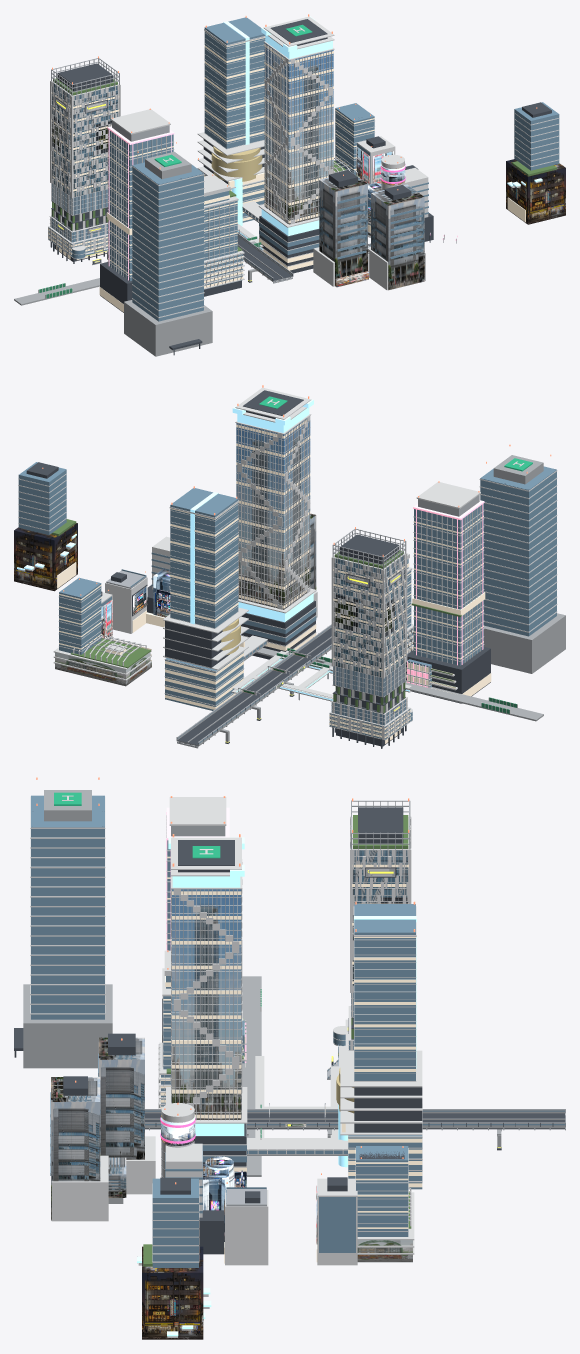
The model's file is shibuya_stream.glb.
3 renders of one model, top to bottom at view 1: azimuth 30°, elevation 25°; view 2: azimuth 150°, elevation 25°; view 3: azimuth 270°, elevation 25°, orthographic. The views are drawn at different scales.
Visible parts, largest first — view 1: ShibuyaScrambleSquare_Tower, ShibuyaCerulean_Tower, ShibuyaMarkCity_Complex, ShibuyaHikarie_Tower, ShibuyaStream_HighRise, ShibuyaSakuraStage_Tower, ShibuyaParco_Complex, ShibuyaFukuras_Tower, ShibuyaMiyashitaPark_Complex, ShibuyaStream_MidVoid, ShibuyaQfront109_Complex, ShibuyaStream_Podium (+4 smaller); view 2: ShibuyaScrambleSquare_Tower, ShibuyaHikarie_Tower, ShibuyaCerulean_Tower, ShibuyaSakuraStage_Tower, ShibuyaStream_HighRise, ShibuyaParco_Complex, ShibuyaMiyashitaPark_Complex, ShutokoRoute3_Viaduct, ShibuyaEastPedestrianDeck, ShibuyaStream_Podium, ShibuyaStream_MidVoid, ShibuyaMagnet_Tower (+4 smaller); view 3: ShibuyaScrambleSquare_Tower, ShibuyaCerulean_Tower, ShibuyaHikarie_Tower, ShibuyaMarkCity_Complex, ShibuyaParco_Complex, ShibuyaMiyashitaPark_Complex, ShibuyaStream_HighRise, ShibuyaQfront109_Complex, ShutokoRoute3_Viaduct, ShibuyaEastPedestrianDeck, ShibuyaToeiBic_Tower, ShibuyaMagnet_Tower (+2 smaller).
Boxes of the visible parts, x1=… form: ShibuyaScrambleSquare_Tower: x1=258, y1=14, x2=334, y2=273; ShibuyaCerulean_Tower: x1=124, y1=142, x2=212, y2=356; ShibuyaMarkCity_Complex: x1=313, y1=170, x2=425, y2=290; ShibuyaHikarie_Tower: x1=197, y1=16, x2=265, y2=225; ShibuyaStream_HighRise: x1=50, y1=56, x2=120, y2=198; ShibuyaSakuraStage_Tower: x1=99, y1=108, x2=174, y2=312; ShibuyaParco_Complex: x1=506, y1=102, x2=565, y2=224; ShibuyaFukuras_Tower: x1=204, y1=174, x2=244, y2=296; ShibuyaMiyashitaPark_Complex: x1=333, y1=103, x2=374, y2=177; ShibuyaStream_MidVoid: x1=51, y1=183, x2=108, y2=231; ShibuyaQfront109_Complex: x1=368, y1=154, x2=433, y2=241; ShibuyaStream_Podium: x1=48, y1=216, x2=108, y2=263; ShibuyaScrambleSquare_Tower: x1=232, y1=385, x2=316, y2=659; ShibuyaHikarie_Tower: x1=163, y1=486, x2=248, y2=710; ShibuyaCerulean_Tower: x1=479, y1=444, x2=565, y2=673; ShibuyaSakuraStage_Tower: x1=406, y1=481, x2=491, y2=703; ShibuyaStream_HighRise: x1=331, y1=527, x2=407, y2=678; ShibuyaParco_Complex: x1=14, y1=462, x2=77, y2=591; ShibuyaMiyashitaPark_Complex: x1=53, y1=577, x2=151, y2=686; ShutokoRoute3_Viaduct: x1=176, y1=624, x2=331, y2=748; ShibuyaEastPedestrianDeck: x1=231, y1=635, x2=543, y2=721; ShibuyaStream_Podium: x1=329, y1=696, x2=412, y2=748; ShibuyaStream_MidVoid: x1=332, y1=662, x2=405, y2=713; ShibuyaMagnet_Tower: x1=105, y1=569, x2=147, y2=633; ShibuyaScrambleSquare_Tower: x1=166, y1=834, x2=247, y2=1184; ShibuyaCerulean_Tower: x1=14, y1=777, x2=112, y2=1068; ShibuyaHikarie_Tower: x1=336, y1=901, x2=422, y2=1189; ShibuyaMarkCity_Complex: x1=50, y1=1033, x2=155, y2=1221; ShibuyaParco_Complex: x1=137, y1=1177, x2=211, y2=1339; ShibuyaMiyashitaPark_Complex: x1=355, y1=1146, x2=414, y2=1262; ShibuyaStream_HighRise: x1=350, y1=798, x2=411, y2=992; ShibuyaQfront109_Complex: x1=160, y1=1102, x2=246, y2=1254; ShutokoRoute3_Viaduct: x1=145, y1=1103, x2=565, y2=1150; ShibuyaEastPedestrianDeck: x1=242, y1=976, x2=347, y2=1176; ShibuyaToeiBic_Tower: x1=316, y1=1173, x2=357, y2=1265; ShibuyaMagnet_Tower: x1=224, y1=1182, x2=268, y2=1265.
Bounding box in the file's own units: 542 × 232 × 358.
27 materials, 12 textured.
